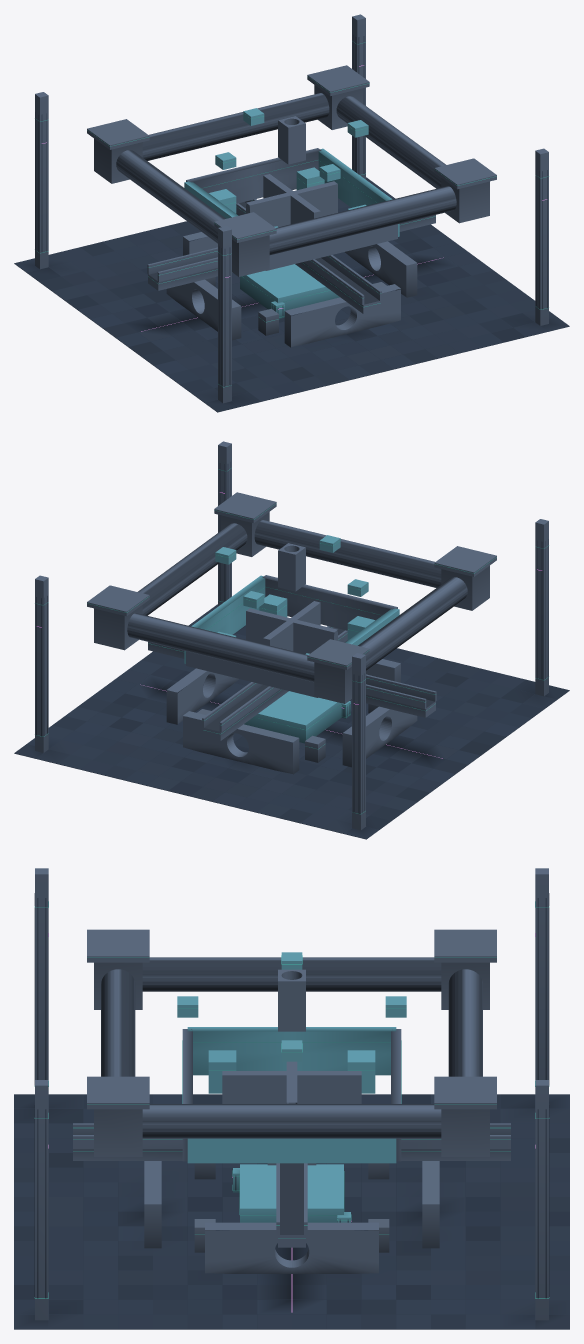
Rendered from 01_world.glb.
The picture shows the model from 3 angles, top to bottom: view 1: azimuth 30°, elevation 25°; view 2: azimuth 150°, elevation 25°; view 3: azimuth 270°, elevation 25°; orthographic projection. The views are drawn at different scales.
Visible parts, largest first — view 1: world_11_body_nocol, world_01_body_nocol, world_01_floor_noshadow_nocol, world_11_floor_noshadow_nocol, world_10_body_nocol, world_00_floor_noshadow_nocol, world_00_body_nocol, world_11_foam_nocol, world_10_floor_noshadow_nocol, world_01_foam_nocol, world_01_panel_noshadow_nocol, world_10_foam_nocol (+3 smaller); view 2: world_11_body_nocol, world_10_body_nocol, world_00_floor_noshadow_nocol, world_10_floor_noshadow_nocol, world_01_body_nocol, world_01_floor_noshadow_nocol, world_00_body_nocol, world_11_foam_nocol, world_11_floor_noshadow_nocol, world_01_foam_nocol, world_00_panel_noshadow_nocol, world_01_panel_noshadow_nocol (+2 smaller); view 3: world_11_body_nocol, world_11_floor_noshadow_nocol, world_10_floor_noshadow_nocol, world_01_body_nocol, world_10_body_nocol, world_00_floor_noshadow_nocol, world_01_floor_noshadow_nocol, world_11_foam_nocol, world_01_foam_nocol, world_00_body_nocol, world_10_panel_noshadow_nocol, world_00_foam_nocol (+4 smaller).
Part boxes in pixels (x1,y1,x2,y2): world_11_body_nocol: (263,96,548,325); world_01_body_nocol: (116,150,400,403); world_01_floor_noshadow_nocol: (116,303,393,412); world_11_floor_noshadow_nocol: (335,252,569,369); world_10_body_nocol: (142,14,369,226); world_00_floor_noshadow_nocol: (14,221,258,337); world_00_body_nocol: (35,92,245,286); world_11_foam_nocol: (240,120,399,310); world_10_floor_noshadow_nocol: (333,177,467,277); world_01_foam_nocol: (184,152,284,318); world_01_panel_noshadow_nocol: (219,246,283,386); world_10_foam_nocol: (243,108,324,190); world_11_body_nocol: (138,441,441,724); world_10_body_nocol: (35,575,337,752); world_00_floor_noshadow_nocol: (190,730,467,839); world_10_floor_noshadow_nocol: (14,679,248,796); world_01_body_nocol: (338,519,548,767); world_01_floor_noshadow_nocol: (325,648,569,764); world_00_body_nocol: (183,639,426,830); world_11_foam_nocol: (184,535,341,743); world_11_floor_noshadow_nocol: (116,604,250,704); world_01_foam_nocol: (341,579,399,718); world_00_panel_noshadow_nocol: (353,673,364,813); world_01_panel_noshadow_nocol: (343,539,548,716); world_11_body_nocol: (35,969,441,1320); world_11_floor_noshadow_nocol: (14,1211,291,1329); world_10_floor_noshadow_nocol: (292,1211,569,1329); world_01_body_nocol: (35,868,441,1248); world_10_body_nocol: (286,969,548,1320); world_00_floor_noshadow_nocol: (316,1094,569,1211); world_01_floor_noshadow_nocol: (14,1094,267,1211); world_11_foam_nocol: (177,996,396,1222); world_01_foam_nocol: (187,952,396,1192); world_00_body_nocol: (368,868,548,1248); world_10_panel_noshadow_nocol: (337,1105,549,1298); world_00_foam_nocol: (347,1050,375,1093).
Bounding box in the file's own units: 160 × 75.5 × 160.
